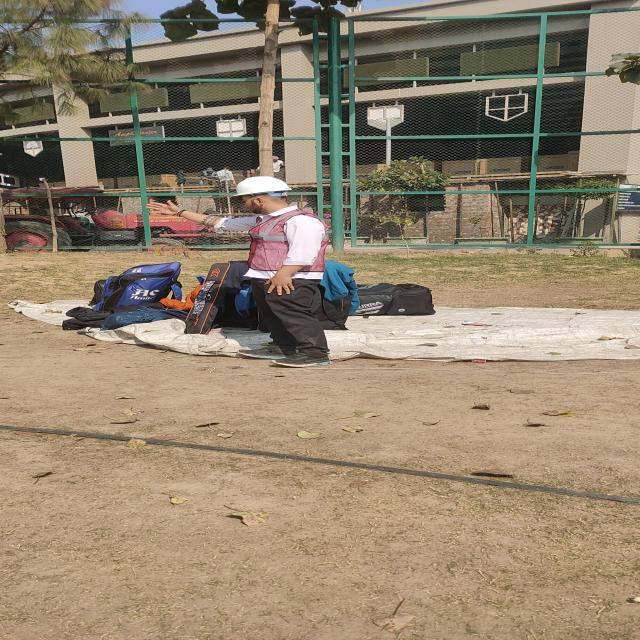safe: (233, 177, 329, 367)
